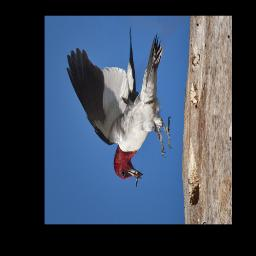Woodpecker: (66, 27, 172, 184)
